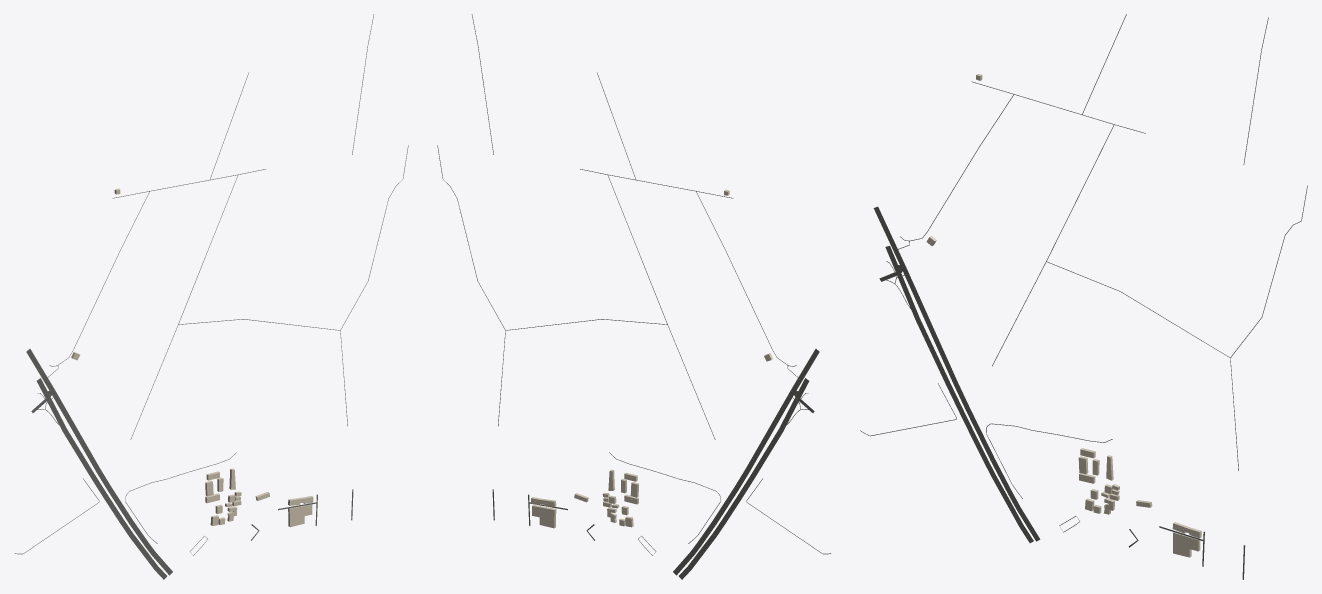
File: historic-palestine-06_25_3484_3197.glb
3 views of the same model, side by side, from view 1: azimuth 30°, elevation 25°; view 2: azimuth 150°, elevation 25°; view 3: azimuth 330°, elevation 25° (orthographic). The views are drawn at different scales.
Visible parts, largest first — view 1: Road 44.007, Road 44.004, Road 44.001; view 2: Road 44.007, Road 44.004, Road 44.001; view 3: Road 44.007, Road 44.004, Road 44.001.
Part boxes in pixels (x1,y1,x2,y2): Road 44.007: (47, 397, 108, 498); Road 44.004: (104, 496, 166, 579); Road 44.001: (81, 442, 132, 523); Road 44.007: (737, 397, 799, 498); Road 44.004: (679, 496, 741, 579); Road 44.001: (713, 442, 764, 523); Road 44.007: (897, 273, 966, 418); Road 44.004: (962, 417, 1033, 543); Road 44.001: (936, 343, 994, 460).
Bounding box in the file's own units: 1031 × 1286 × 8.7.
